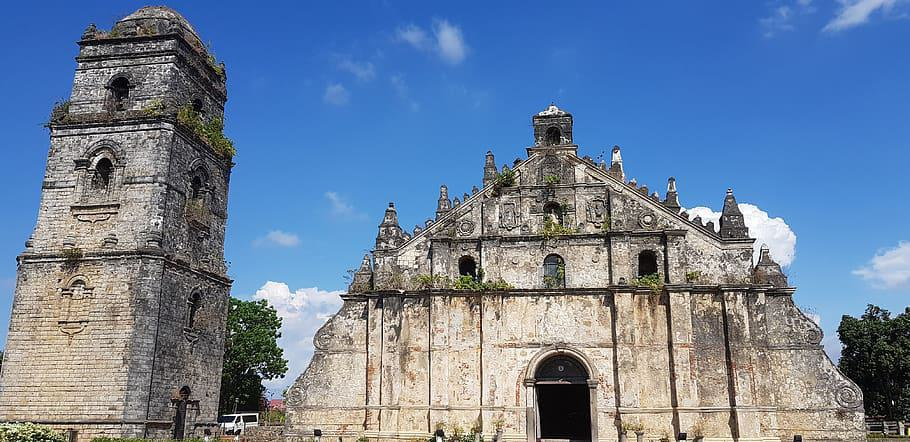paoay_church_paoay_ilocos_norte: (10, 6, 869, 442)
vegetation_damage: (173, 103, 247, 162), (452, 269, 502, 296), (631, 268, 667, 295), (490, 166, 526, 192), (540, 216, 572, 241)
